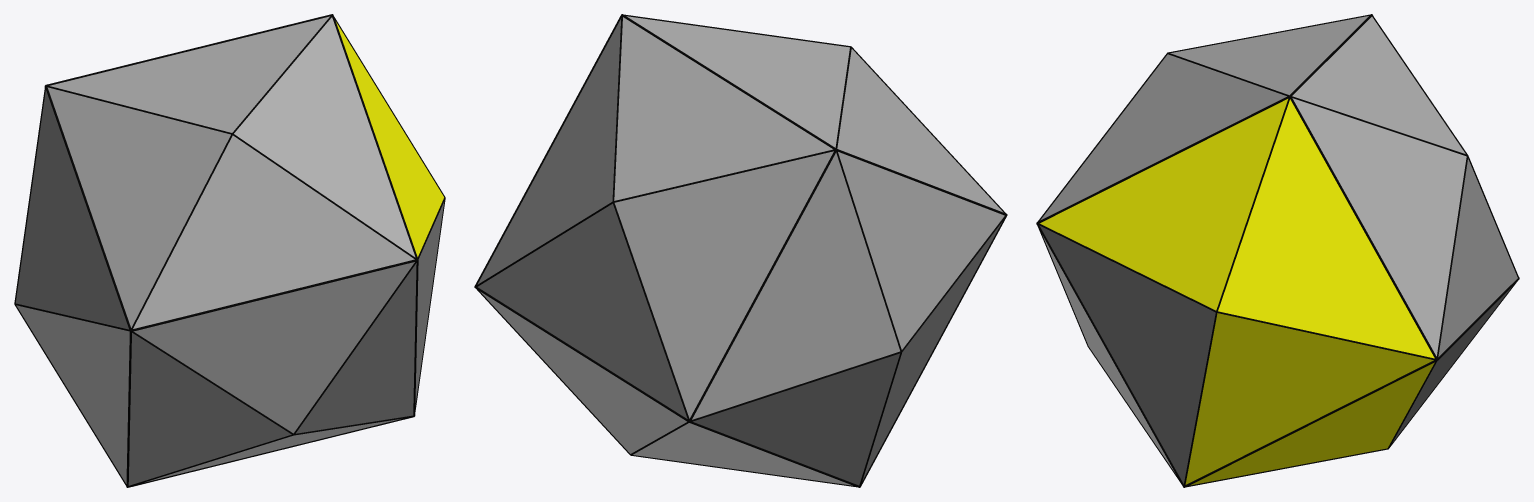
File: TetrakisHexahedron_4.glb
3 views of the same model, side by side, from view 1: azimuth 30°, elevation 25°; view 2: azimuth 150°, elevation 25°; view 3: azimuth 270°, elevation 25° (orthographic). The views are drawn at different scales.
Bounding box in the file's own units: 3.04 × 3.23 × 3.38.
